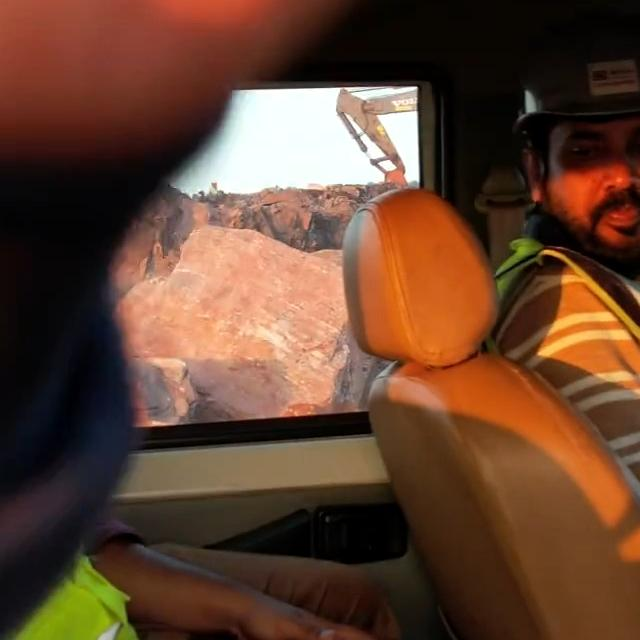Excavator: (331, 95, 416, 187)
person: (513, 53, 640, 311)
